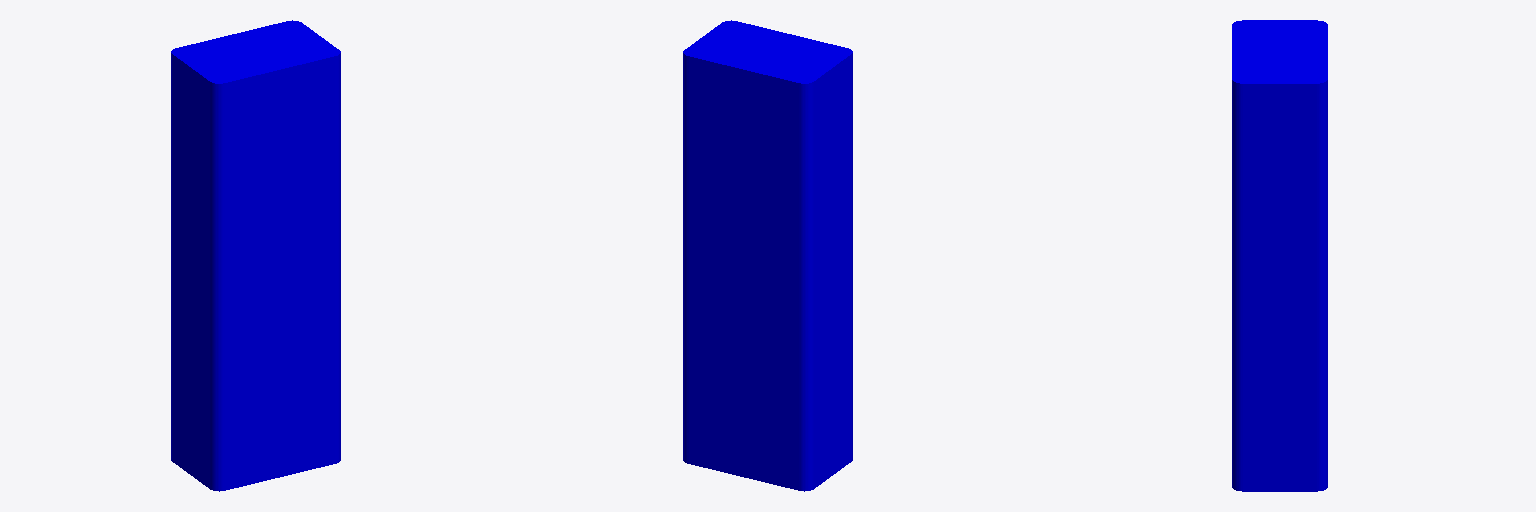
The robot description file, URDF, robot "board1_block14":
<?xml version="1.0"?>
<robot name="board1_block14">
    <link name="board1_block14">
        <visual>
            <origin xyz="0 0 0 " rpy=" 0 0 0"/>
            <geometry>
                <mesh filename="../meshes/SIMO_Board1_Block14.stl" scale="0.001 0.001 0.001"/>
            </geometry>
            <material name="red">
                <color rgba="0.0 0.0 1.0 1.0"/>
            </material>
        </visual>
        <collision>
            <origin xyz="0 0 0" rpy="0 0 0"/>
            <geometry>
                <mesh filename="../meshes/SIMO_Board1_Block14.stl" scale="0.001 0.001 0.001"/>
            </geometry>
        </collision>
    </link>
</robot>

--- Render facts (derived) ---
Views: 3 orthographic renders of the robot side by side, from view 1: azimuth 30°, elevation 25°; view 2: azimuth 150°, elevation 25°; view 3: azimuth 270°, elevation 25°.
Robot: board1_block14 — 1 links, 0 joints (none); root link board1_block14; default pose: every joint at zero.
Visible links, largest first — view 1: board1_block14; view 2: board1_block14; view 3: board1_block14.
Boxes of the visible links, box(x1,y1,x2,y2) form: board1_block14: box(171, 20, 340, 491); board1_block14: box(683, 20, 852, 491); board1_block14: box(1232, 20, 1327, 491).
Size in the robot's own frame: 0.0498 by 0.032 by 0.15 metres.
Meshes: 1 distinct files referenced, 1 mesh visuals loaded (1 ASCII STL).
